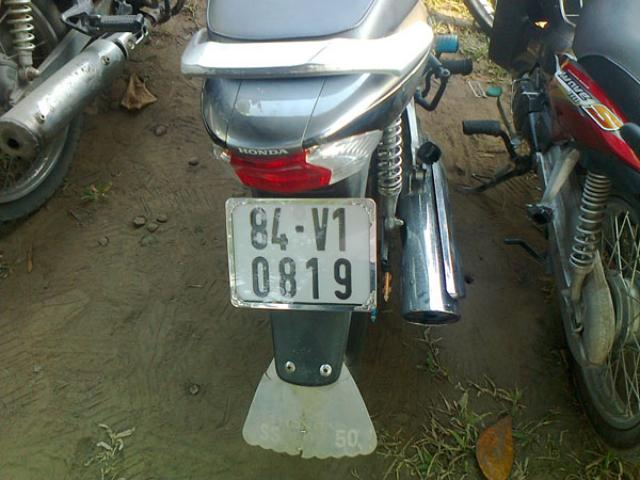plate: (230, 200, 374, 304)
